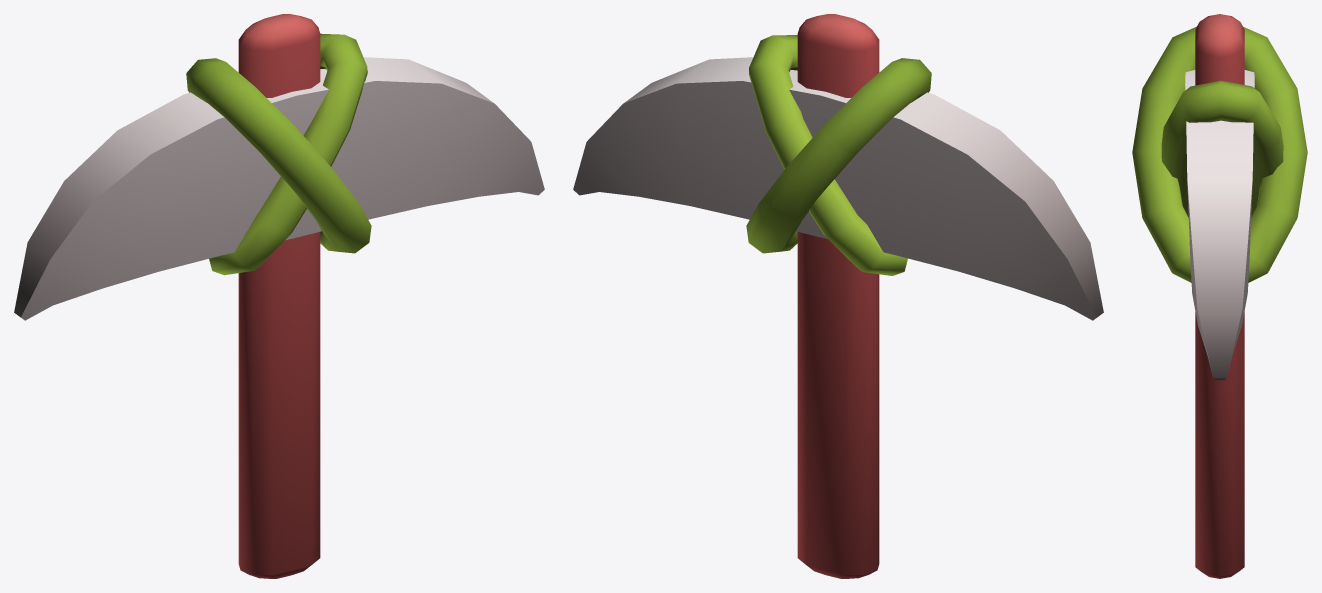
Rendered from Hoe.fbx.
The picture shows the model from 3 angles, left to right: view 1: azimuth 30°, elevation 25°; view 2: azimuth 150°, elevation 25°; view 3: azimuth 270°, elevation 25°; orthographic projection.
Parts seen in each view (by area): view 1: hoe; view 2: hoe; view 3: hoe.
Part boxes in pixels (box(x1,y1,x2,y2)): hoe: box(14, 14, 544, 578); hoe: box(573, 14, 1103, 578); hoe: box(1132, 14, 1307, 578).
Size of the model in its own units: 130 by 132 by 38.13.
